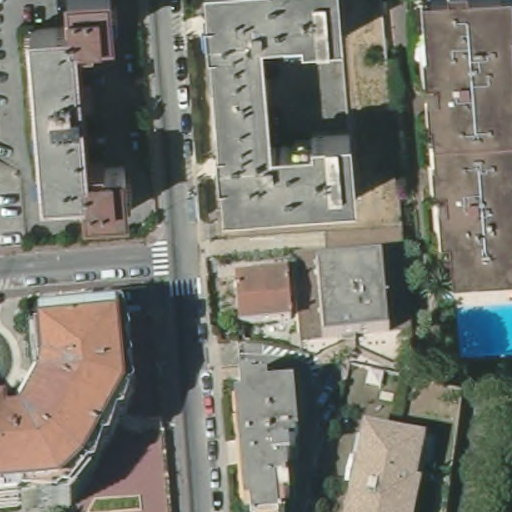pool: (452, 300, 512, 359)
